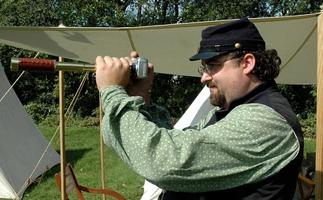person: (95, 20, 305, 200)
